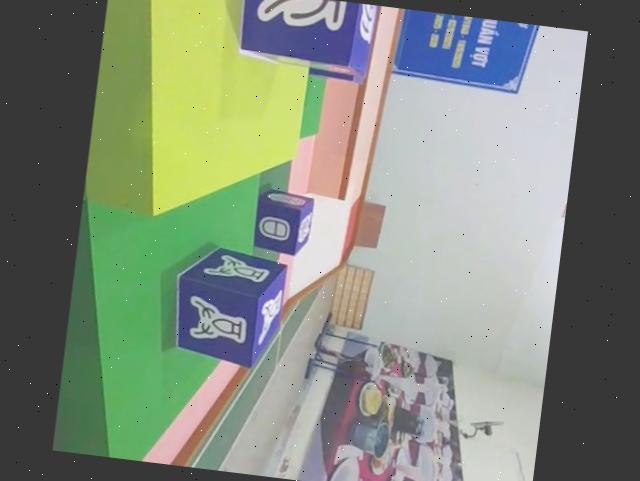R2 Fake Blue: (229, 0, 381, 79), (252, 186, 316, 255)
R2 Real Blue: (166, 239, 289, 367)
